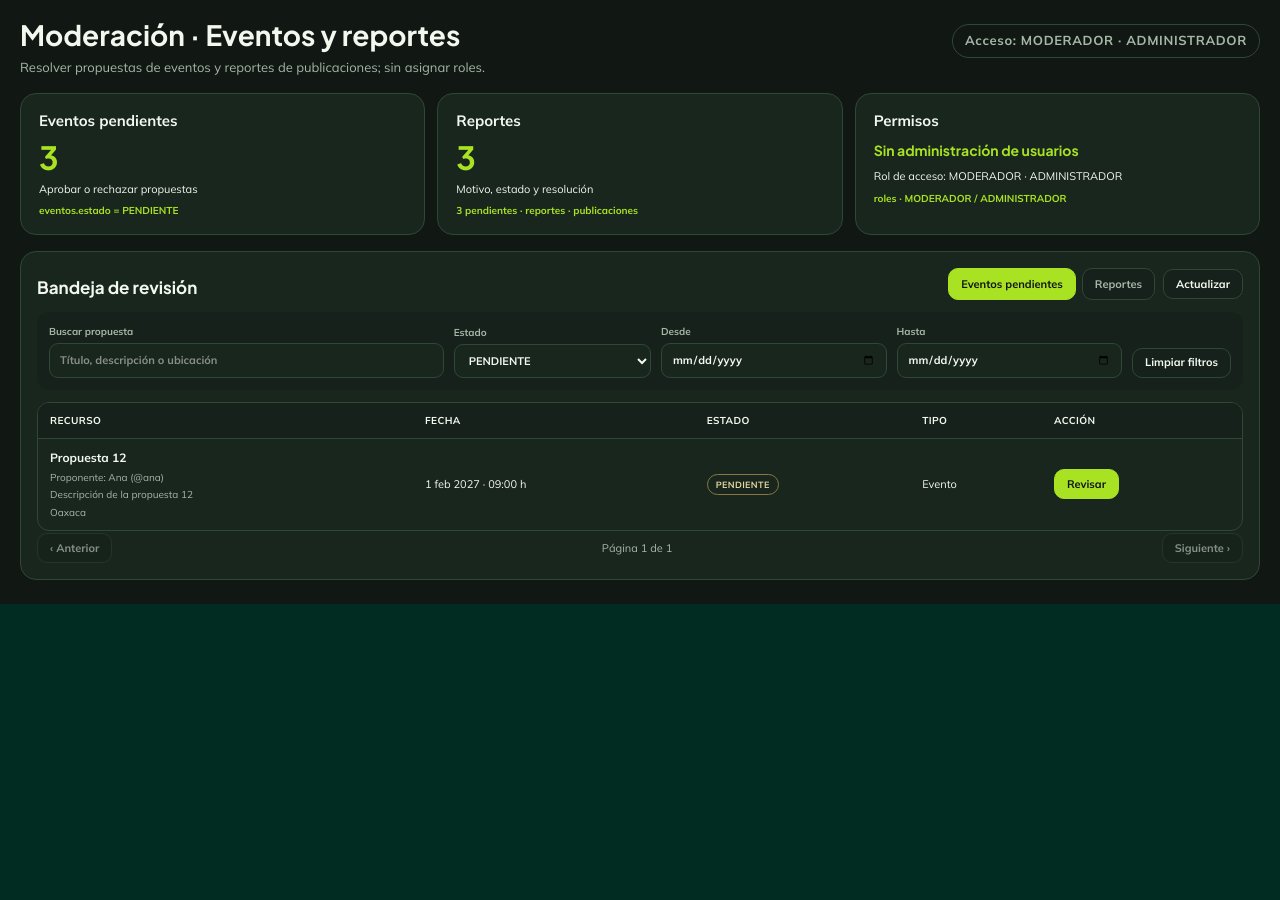
Moderación 085: panel funcional › valida el motivo de rechazo y envía únicamente el DTO permitido
Click the button "Revisar": (1086, 484) [1054,469,1119,499]
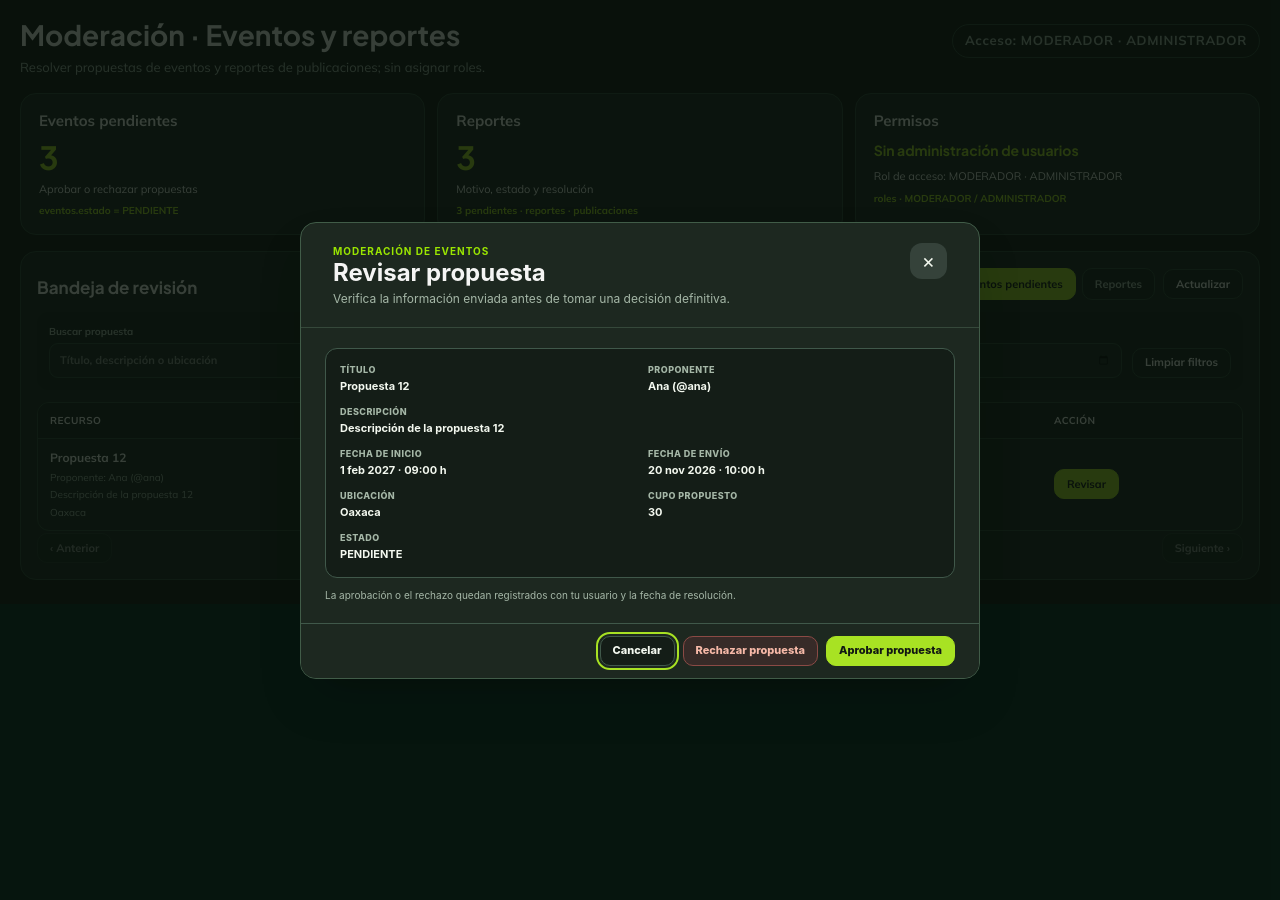
Click the button "Rechazar propuesta": (750, 650) [682,636,818,666]
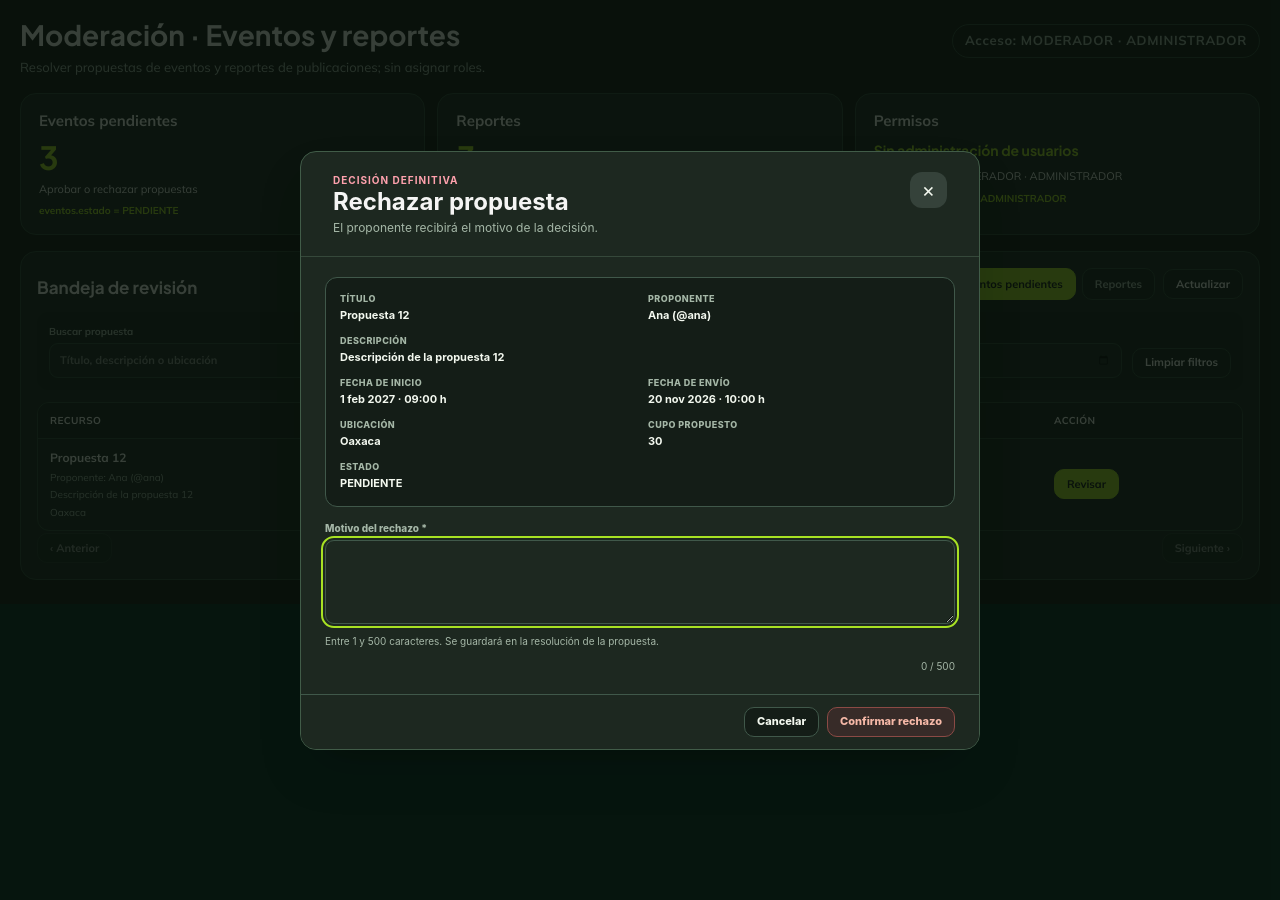
Click the button "Confirmar rechazo": (891, 722) [827,706,955,736]
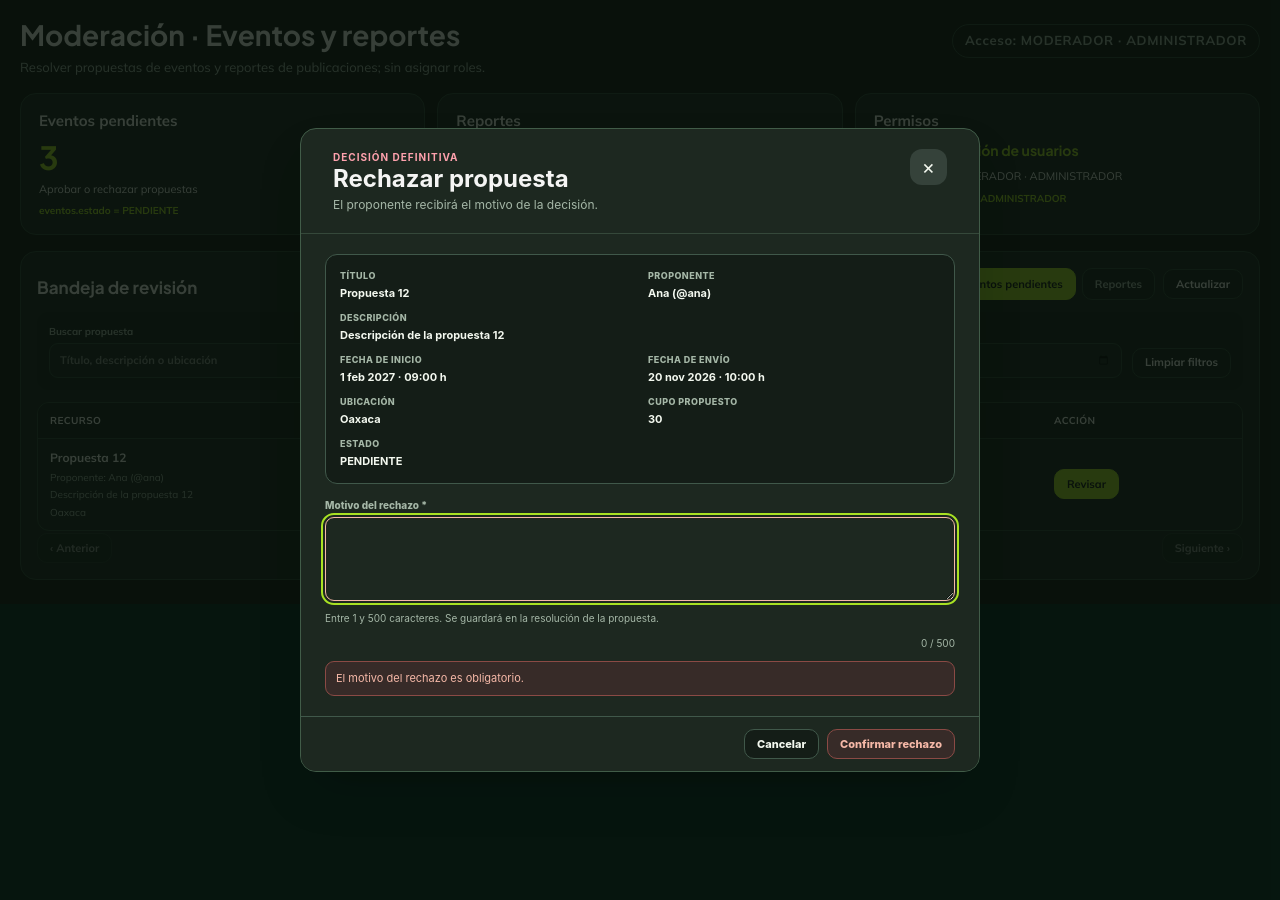
Expected: the message shows "obligatorio", [336,671,524,685]
In the text box labelled "Motivo del rechazo *": (640, 559) [325,517,955,601], type "  La fecha de inicio ya pasó  "
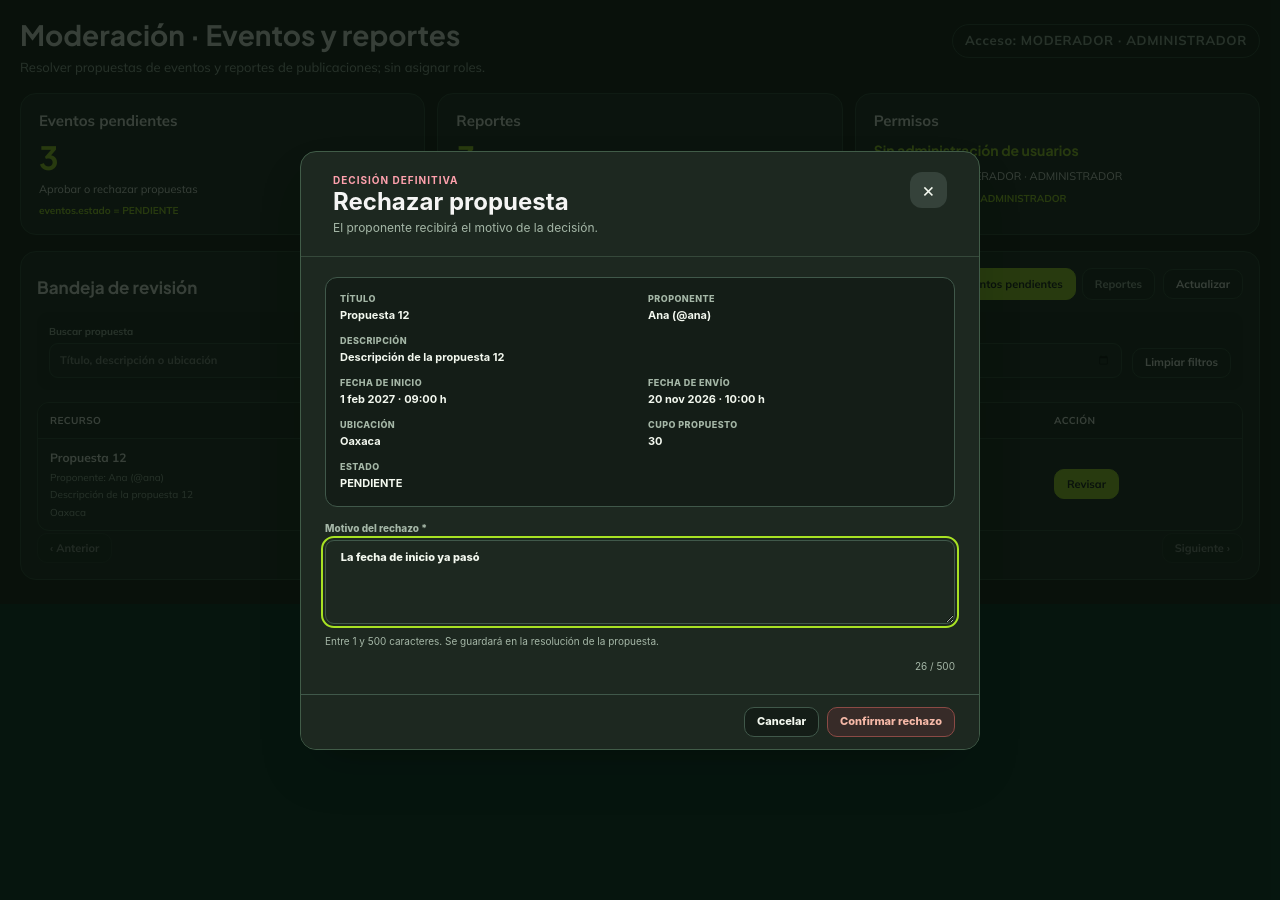
Click the button "Confirmar rechazo": (891, 722) [827,706,955,736]
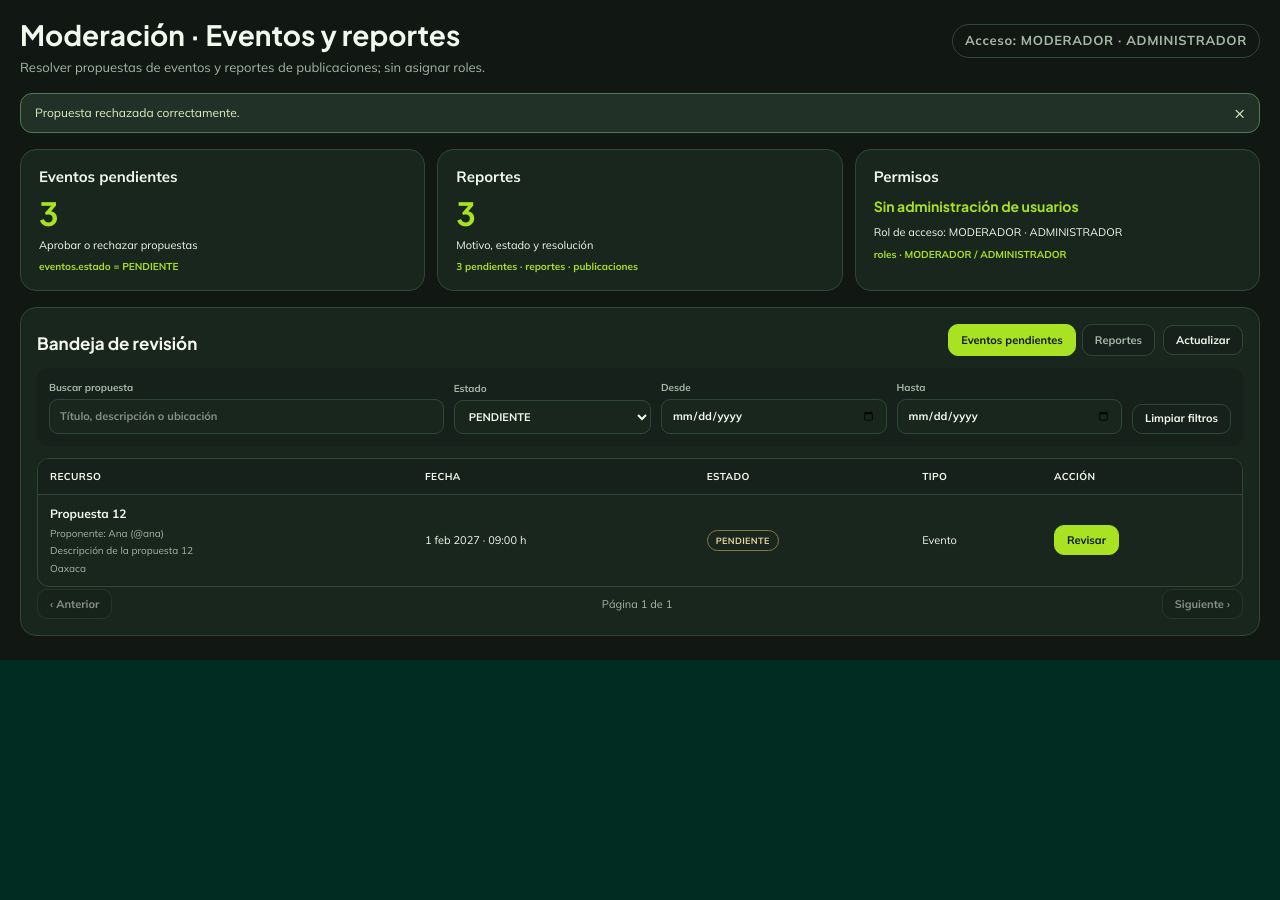
Expected: the text "Propuesta rechazada correctamente." is shown, [35,104,240,122]
